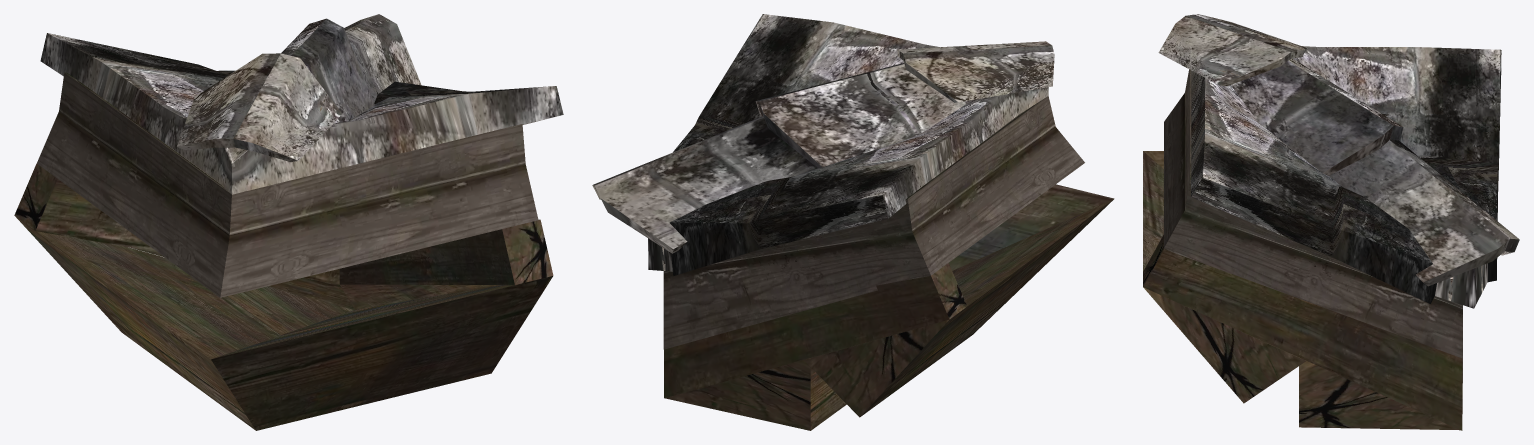
3 views of the same model, side by side, from view 1: azimuth 30°, elevation 25°; view 2: azimuth 150°, elevation 25°; view 3: azimuth 270°, elevation 25° (orthographic). The views are drawn at different scales.
Visible parts, largest first — view 1: SM_T3_Roof_Small_Valley_Shallow_LOD0; view 2: SM_T3_Roof_Small_Valley_Shallow_LOD0; view 3: SM_T3_Roof_Small_Valley_Shallow_LOD0.
Part boxes in pixels (bbox=[...]): SM_T3_Roof_Small_Valley_Shallow_LOD0: bbox=[14, 14, 563, 430]; SM_T3_Roof_Small_Valley_Shallow_LOD0: bbox=[592, 14, 1114, 430]; SM_T3_Roof_Small_Valley_Shallow_LOD0: bbox=[1143, 14, 1519, 430].
Bounding box in the file's own units: 1.07 × 0.9599 × 1.07.
3 materials, 3 textured.
